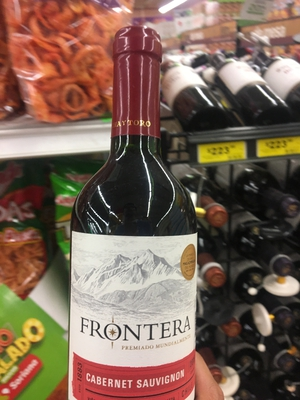frontera cabernet sauvignon: (72, 30, 204, 400)
